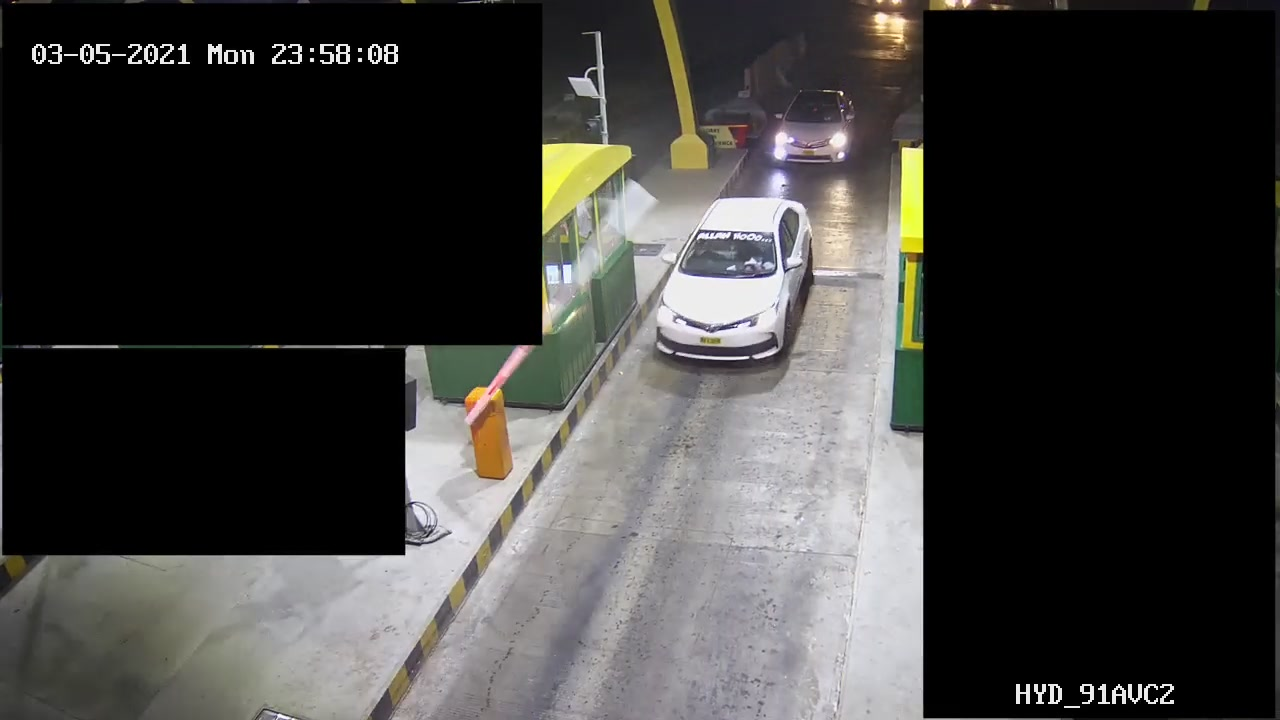F1: (643, 187, 826, 372)
